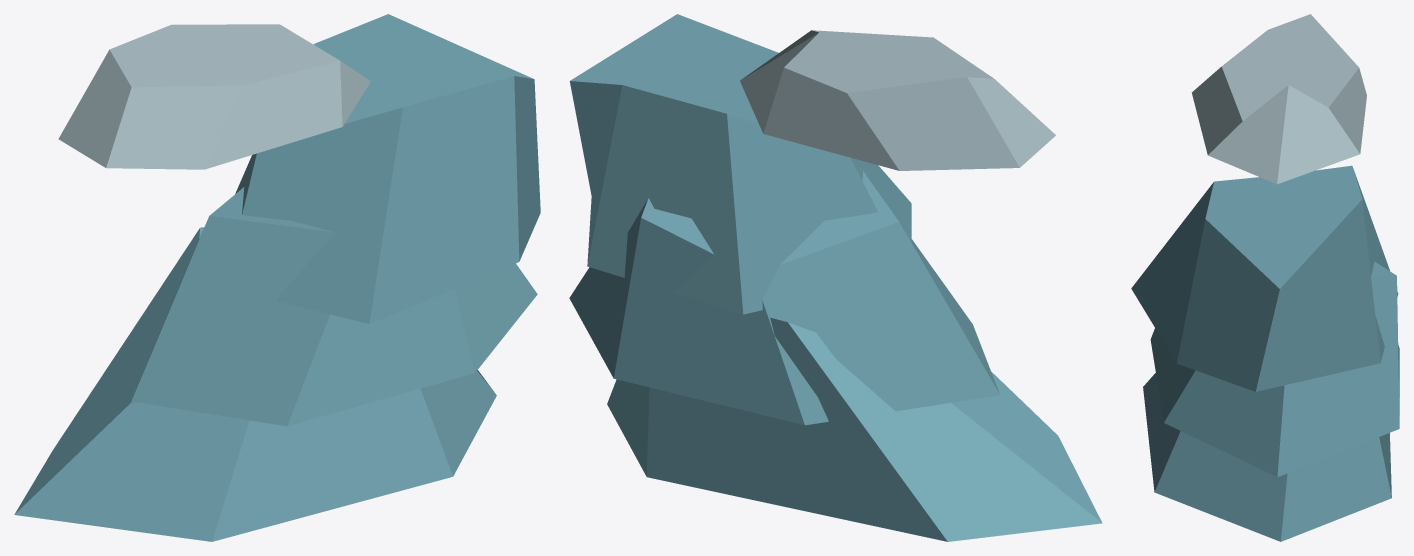
Rendered from map-boundaries-v5__frost_08.glb.
3 renders of one model, left to right at view 1: azimuth 30°, elevation 25°; view 2: azimuth 150°, elevation 25°; view 3: azimuth 270°, elevation 25°, orthographic. The views are drawn at different scales.
Parts seen in each view (by area): view 1: frost_08; view 2: frost_08; view 3: frost_08.
Part boxes in pixels (x1,y1,x2,y2): frost_08: (14, 14, 540, 541); frost_08: (569, 14, 1102, 541); frost_08: (1131, 14, 1399, 541).
Size of the model in its own units: 1.29 by 1 by 0.6588.
